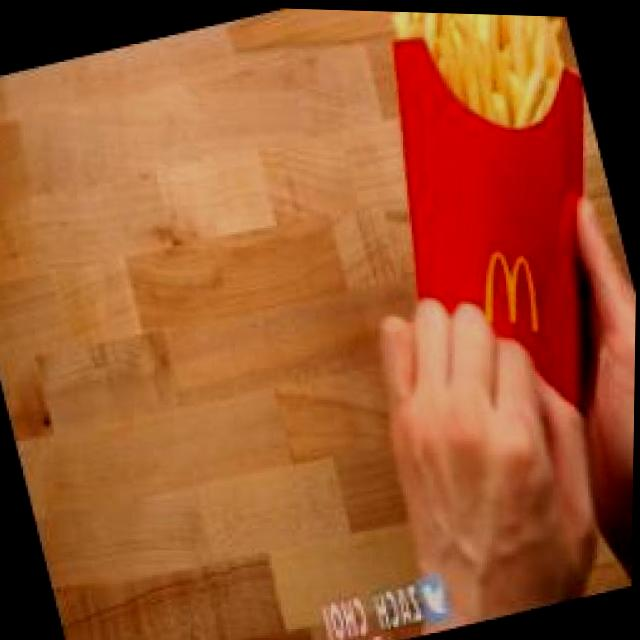french fries: (365, 9, 595, 174)
